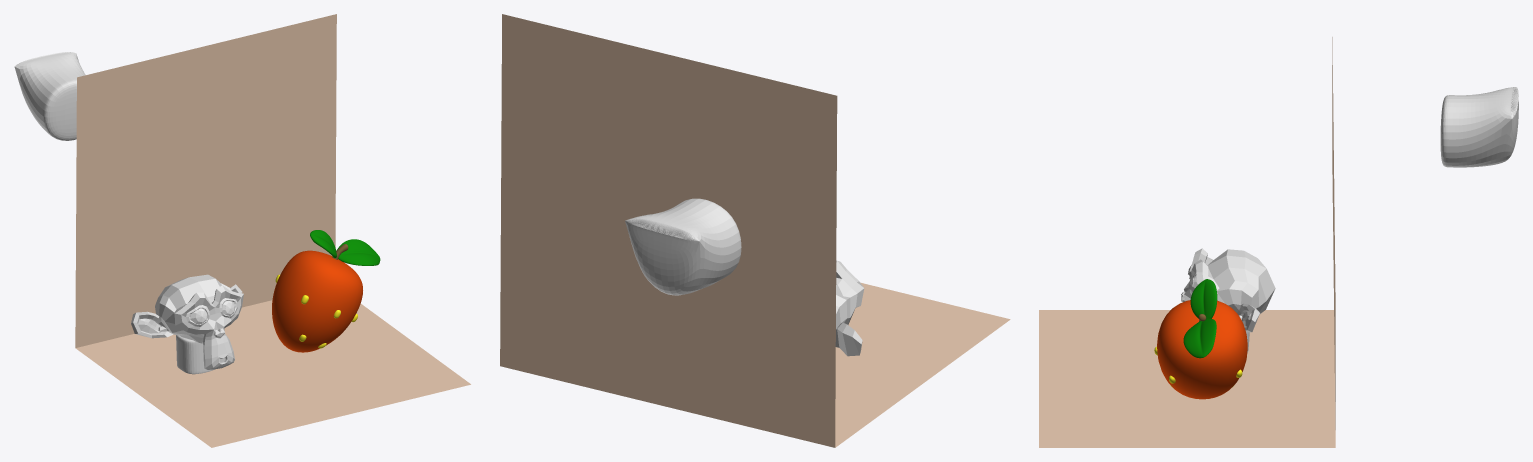
The model's file is strawberry_monkey.glb.
3 renders of one model, left to right at view 1: azimuth 30°, elevation 25°; view 2: azimuth 150°, elevation 25°; view 3: azimuth 270°, elevation 25°, orthographic. The views are drawn at different scales.
Parts seen in each view (by area): view 1: Plane.002, Cube.002, Suzanne, Cube.001, Cube, Plane; view 2: Plane.002, Cube.001, Suzanne; view 3: Plane.002, Cube.002, Cube.001, Suzanne, Plane, Plane.001.
Part boxes in pixels (x1,y1,x2,y2): Plane.002: (75, 14, 470, 447); Cube.002: (272, 250, 362, 352); Suzanne: (131, 274, 243, 369); Cube.001: (14, 52, 85, 140); Cube: (176, 335, 214, 374); Plane: (337, 239, 380, 265); Plane.002: (500, 14, 1010, 447); Cube.001: (625, 198, 741, 295); Suzanne: (835, 260, 864, 356); Plane.002: (1039, 37, 1335, 447); Cube.002: (1157, 300, 1247, 399); Cube.001: (1440, 87, 1518, 167); Suzanne: (1181, 248, 1275, 332); Plane: (1183, 318, 1216, 358); Plane.001: (1190, 279, 1217, 318).
Bounding box in the file's own units: 8.38 × 8.46 × 12.31.
